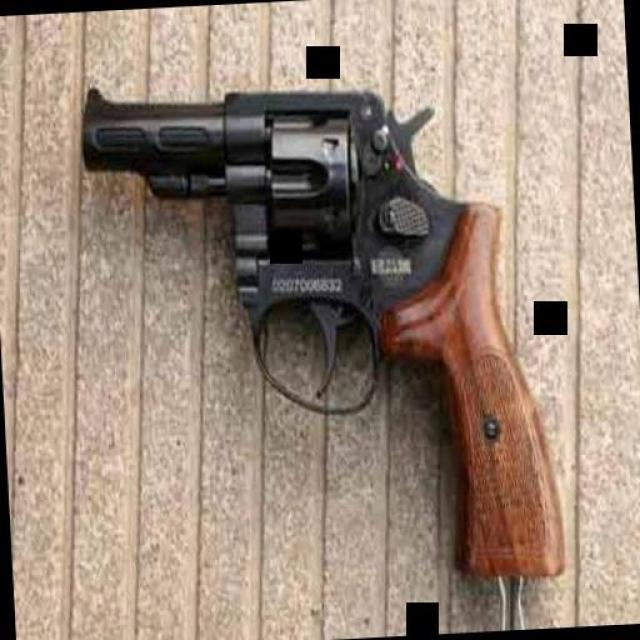gun: (76, 62, 565, 600)
